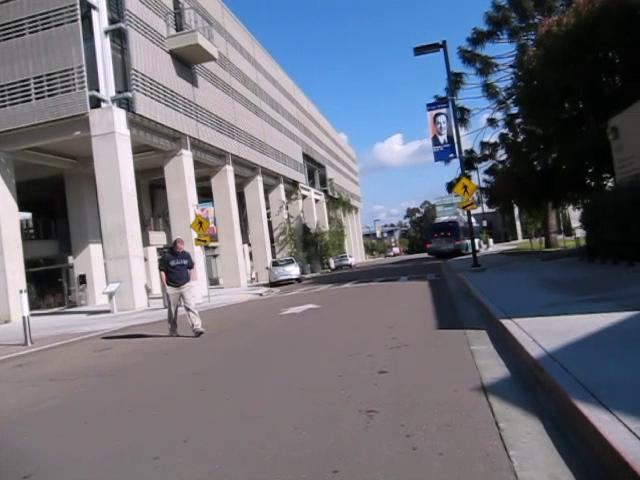pedestrianCrossing: (452, 175, 478, 202), (189, 215, 212, 235)
